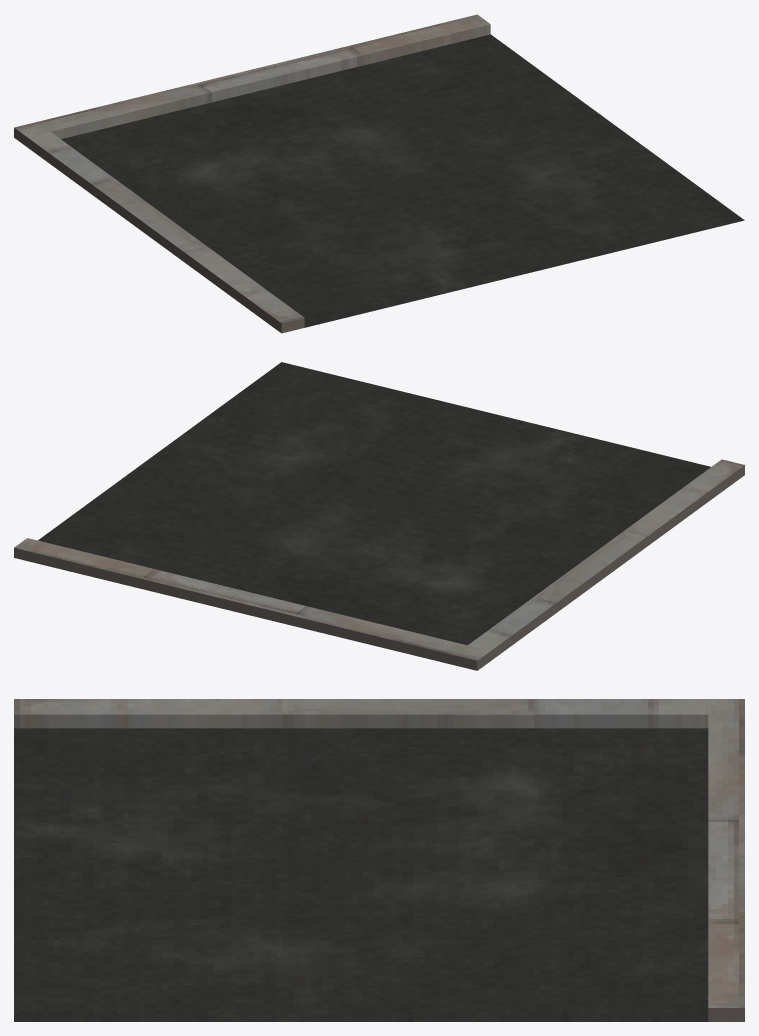
File: RoadCornerNoDot.glb
The picture shows the model from 3 angles, top to bottom: view 1: azimuth 30°, elevation 25°; view 2: azimuth 150°, elevation 25°; view 3: azimuth 270°, elevation 25°; orthographic projection. The views are drawn at different scales.
Parts seen in each view (by area): view 1: RoadCorner; view 2: RoadCorner; view 3: RoadCorner.
Part boxes in pixels (<box>): RoadCorner: <box>14,14,744,333</box>; RoadCorner: <box>14,362,744,670</box>; RoadCorner: <box>14,699,744,1021</box>.
Bounding box in the file's own units: 4.8 × 0.1 × 4.8.
2 materials, 2 textured.
